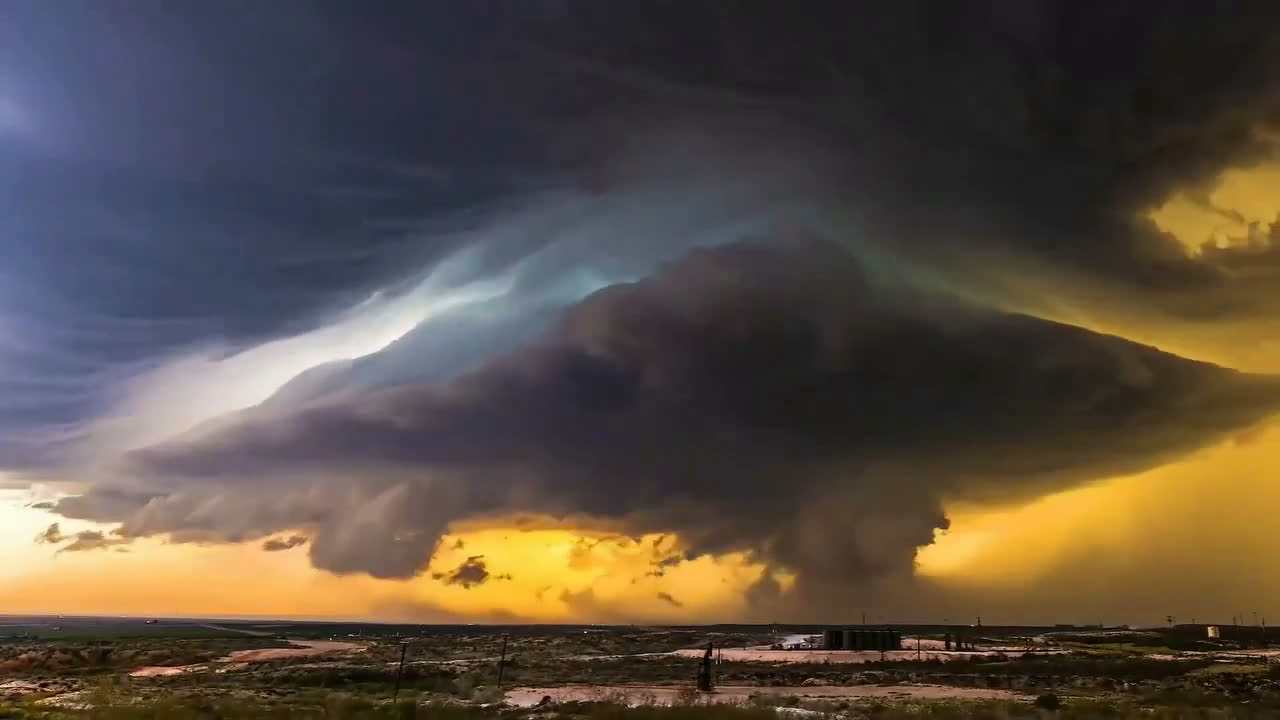RFD: (740, 457, 1275, 626)
mesocyclone: (0, 0, 1280, 533)
striations: (35, 345, 691, 533)
wall cloud: (26, 223, 1272, 591)
